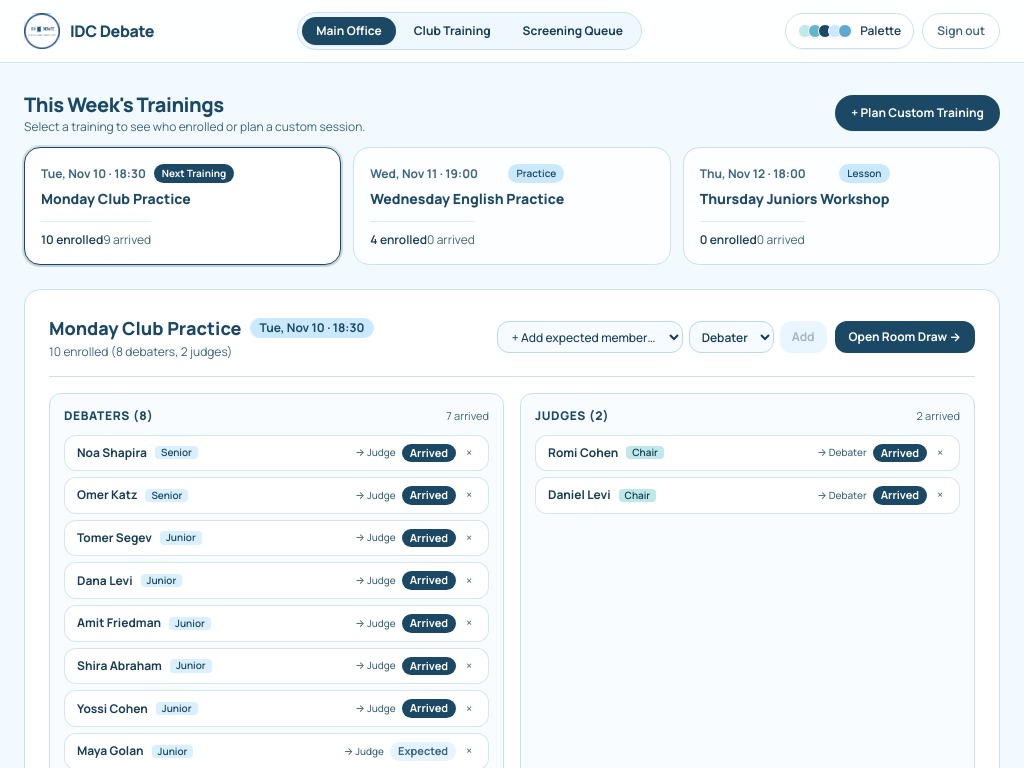
Scenario: TrainingHub & MainOffice — Lean Club Training UI › renders lean MainOffice with planned trainings, enrolled members on click, and custom training planner
The image size is (1024, 768).
expect the heading "This Week's Trainings" is shown: met, box [24, 91, 224, 118]
expect the text "Next Training" is shown: met, box [154, 164, 234, 183]
Click another planned training to see who enrolled in it
Click the button "Wednesday English Practice".
click(512, 206)  # box [353, 147, 671, 265]
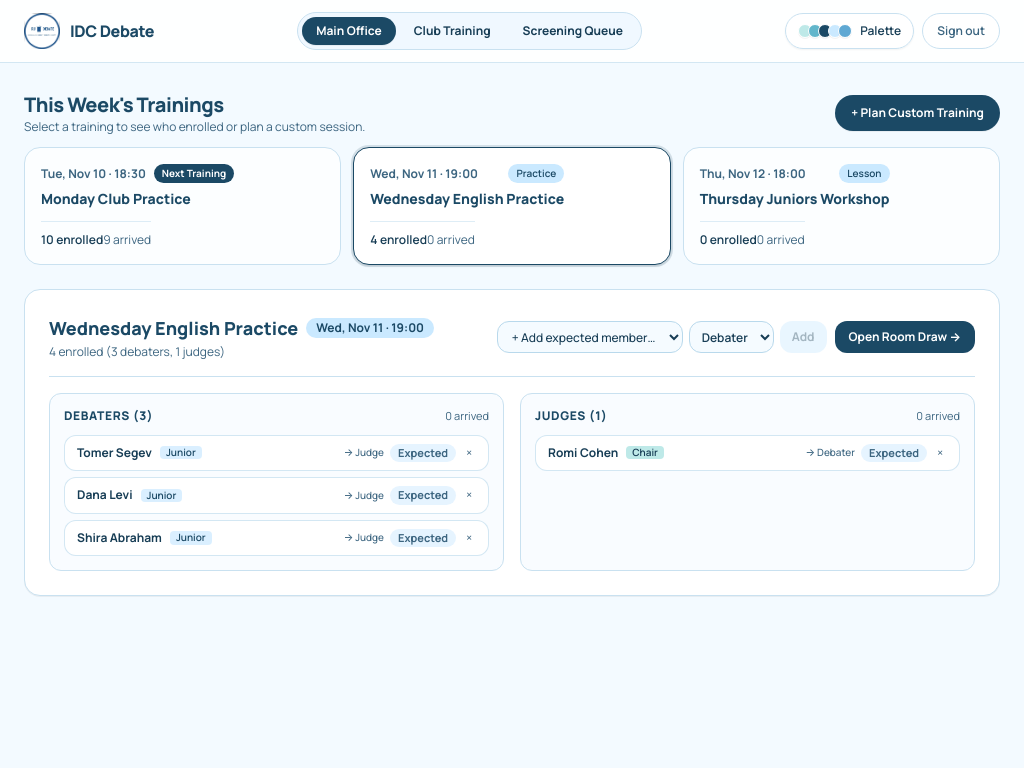
expect the text "4 enrolled (3 debaters, 1 judges)" is shown: met, box [49, 343, 225, 360]
